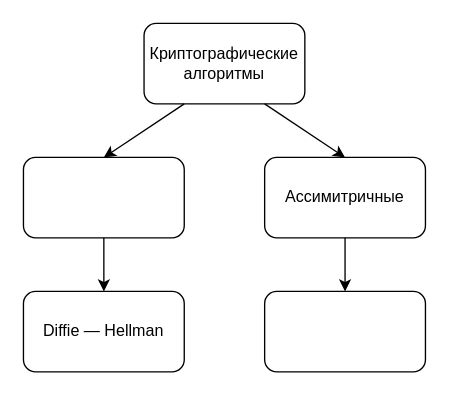
Some shapes in this 449 by 395 pixel diagram are drawn without their labels. The shapes that lost their labels are listed below. From the top down, each one's centre as x and y in pixels, then its label:
[103,197]: Симметричные
[344,331]: RSA
